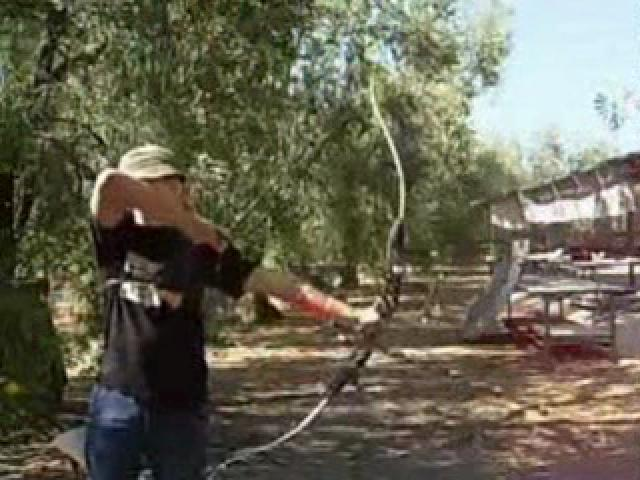I: (80, 130, 406, 480)
